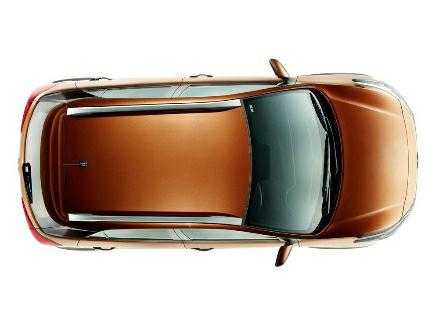现代-i20: (15, 54, 423, 276)
